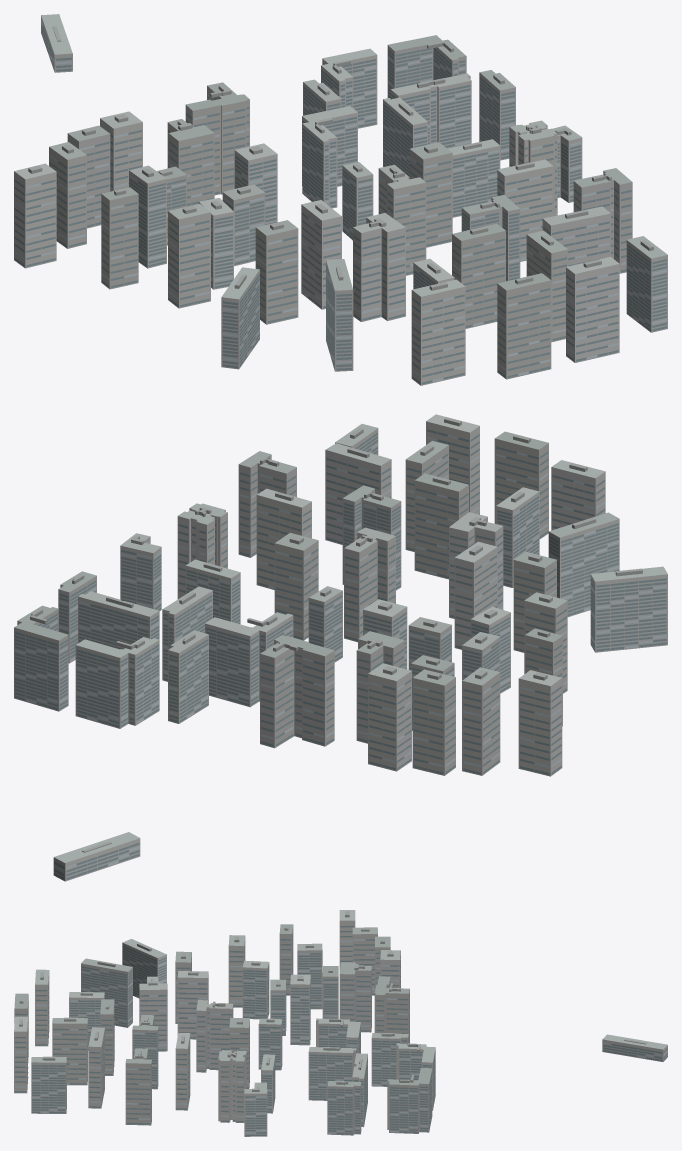
File: apt-a14272304.glb
The picture shows the model from 3 angles, top to bottom: view 1: azimuth 30°, elevation 25°; view 2: azimuth 150°, elevation 25°; view 3: azimuth 270°, elevation 25°; orthographic projection. The views are drawn at different scales.
Parts seen in each view (by area): view 1: apt-a14272304; view 2: apt-a14272304; view 3: apt-a14272304.
Boxes of the visible parts, x1,y1,x2,y2 form: apt-a14272304: [14, 14, 667, 385]; apt-a14272304: [14, 414, 667, 881]; apt-a14272304: [14, 910, 667, 1136].
Bounding box in the file's own units: 377 × 68 × 630.
